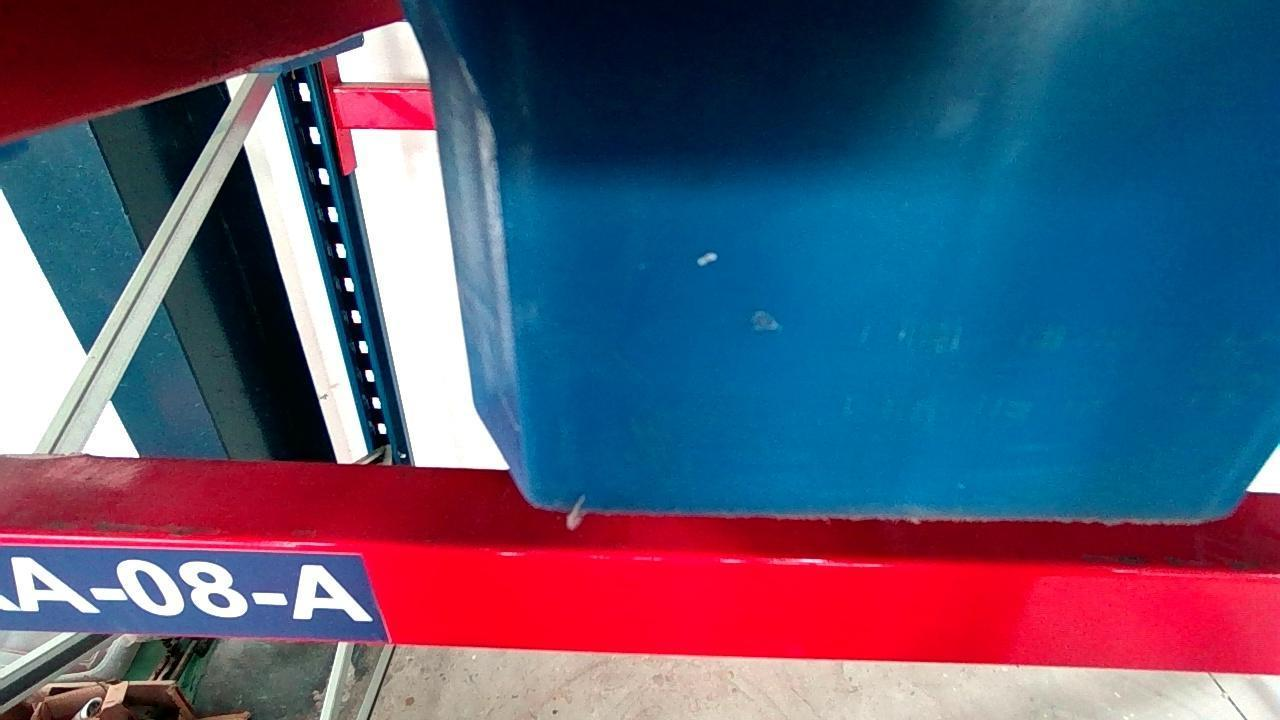h_rack: (0, 533, 1280, 673)
